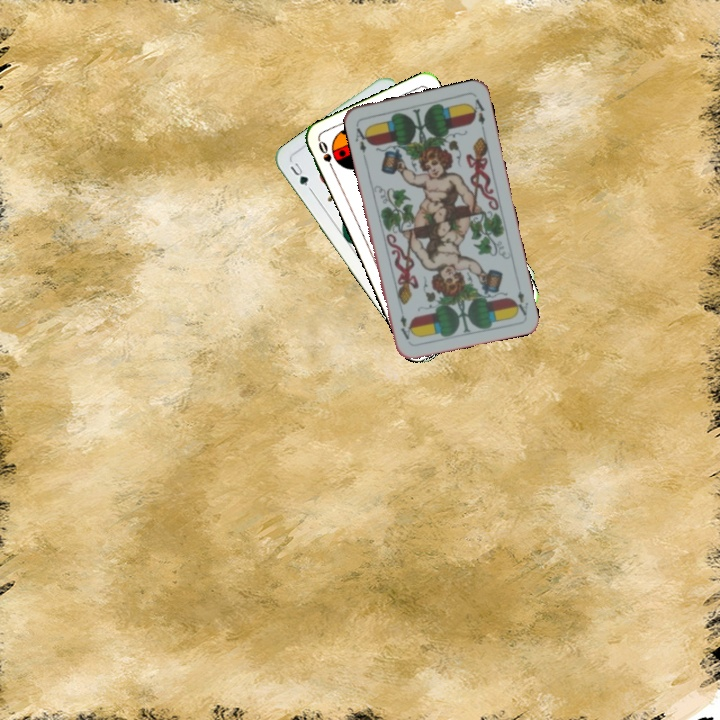EA: (351, 120, 372, 155), (510, 287, 531, 318)
GU: (286, 157, 311, 189)
SO: (314, 137, 338, 175)
